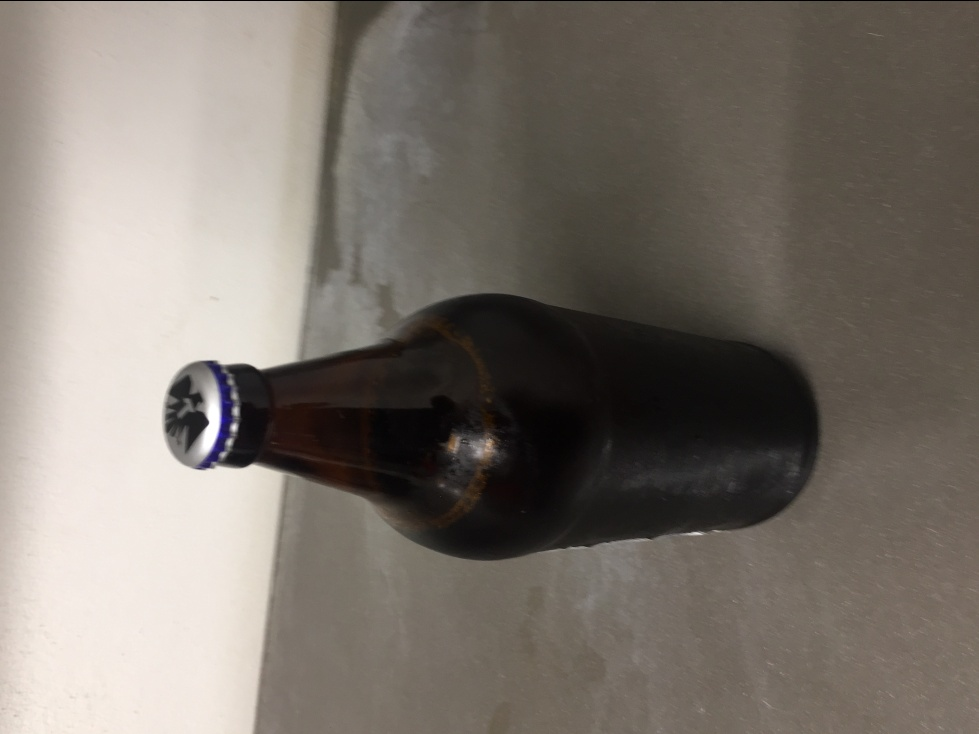tecateC: (162, 291, 821, 563)
